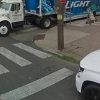Crosswalk: (1, 35, 60, 73)
